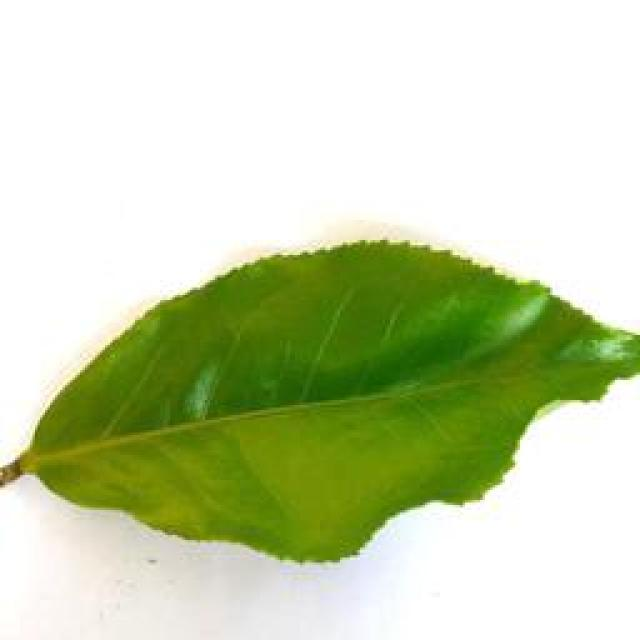Healthy: (2, 239, 640, 560)
